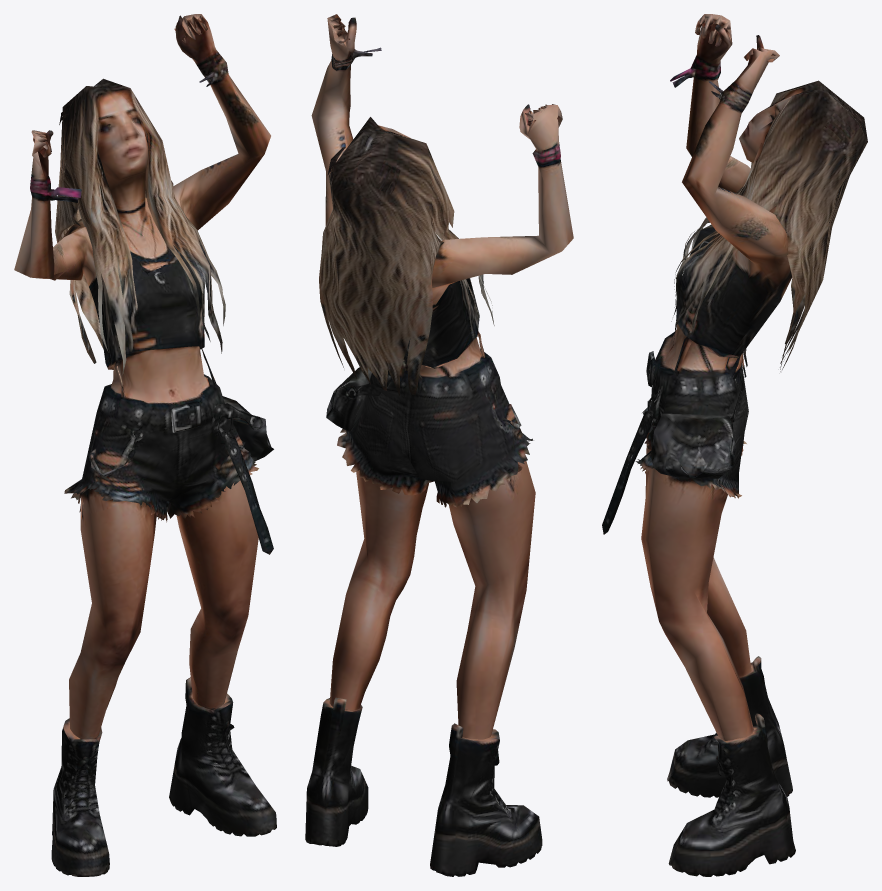
Rendered from Female_Fan_04_LOD2_Static_cheer_512.glb.
The picture shows the model from 3 angles, left to right: view 1: azimuth 30°, elevation 25°; view 2: azimuth 150°, elevation 25°; view 3: azimuth 270°, elevation 25°; orthographic projection. The views are drawn at different scales.
Parts seen in each view (by area): view 1: female_fan_04_static_cheer_uvfixed; view 2: female_fan_04_static_cheer_uvfixed; view 3: female_fan_04_static_cheer_uvfixed.
Part boxes in pixels (x1,y1,x2,y2): female_fan_04_static_cheer_uvfixed: [14, 14, 276, 876]; female_fan_04_static_cheer_uvfixed: [305, 14, 573, 876]; female_fan_04_static_cheer_uvfixed: [602, 14, 867, 876].
Size of the model in its own units: 0.3421 by 1.06 by 0.3139.
1 material, 1 textured.
